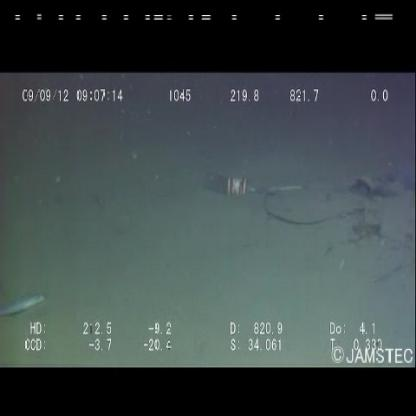Rác: (198, 152, 274, 214)
